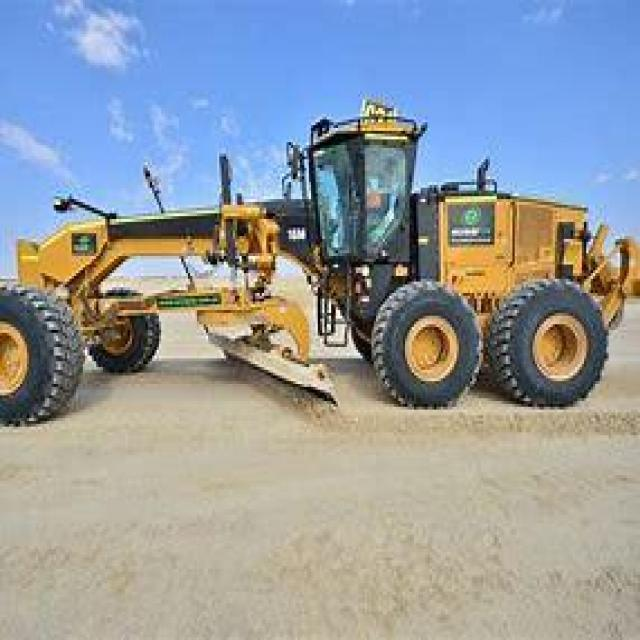Grader: (9, 102, 635, 446)
